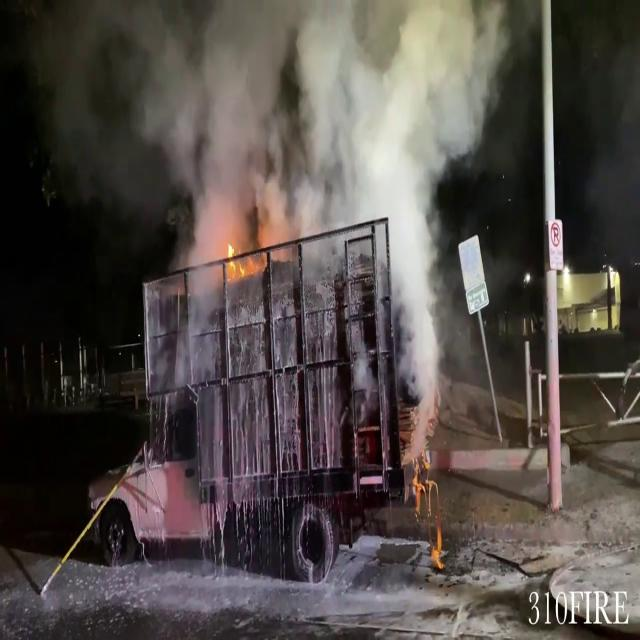Smoke: (44, 1, 516, 260), (553, 0, 640, 311)
